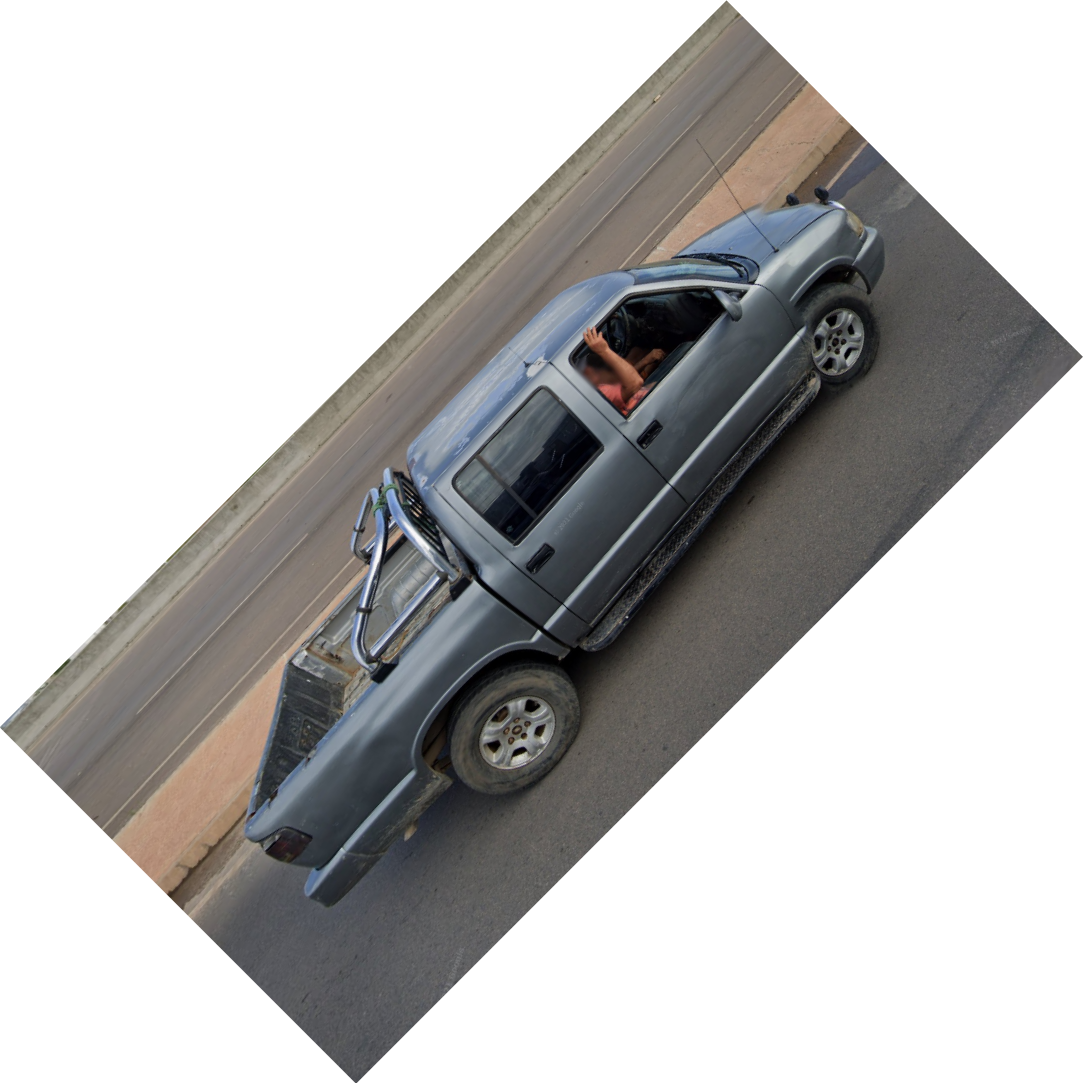car: (239, 139, 888, 915)
